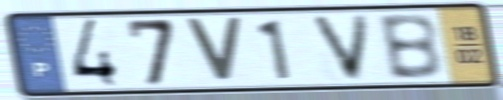1: (255, 17, 293, 82)
4: (66, 17, 124, 90)
7: (124, 17, 178, 88)
B: (374, 11, 446, 82)
V: (306, 12, 374, 84), (181, 16, 247, 86)
